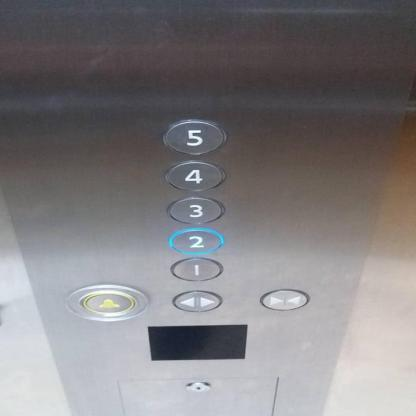1: (169, 256, 223, 280)
2: (168, 227, 224, 254)
3: (169, 196, 225, 224)
4: (165, 160, 225, 192)
5: (162, 119, 224, 155)
alarm: (64, 284, 148, 320)
close: (256, 287, 312, 311)
empty: (147, 324, 250, 360)
keyhole: (184, 380, 212, 392)
open: (169, 288, 223, 312)
